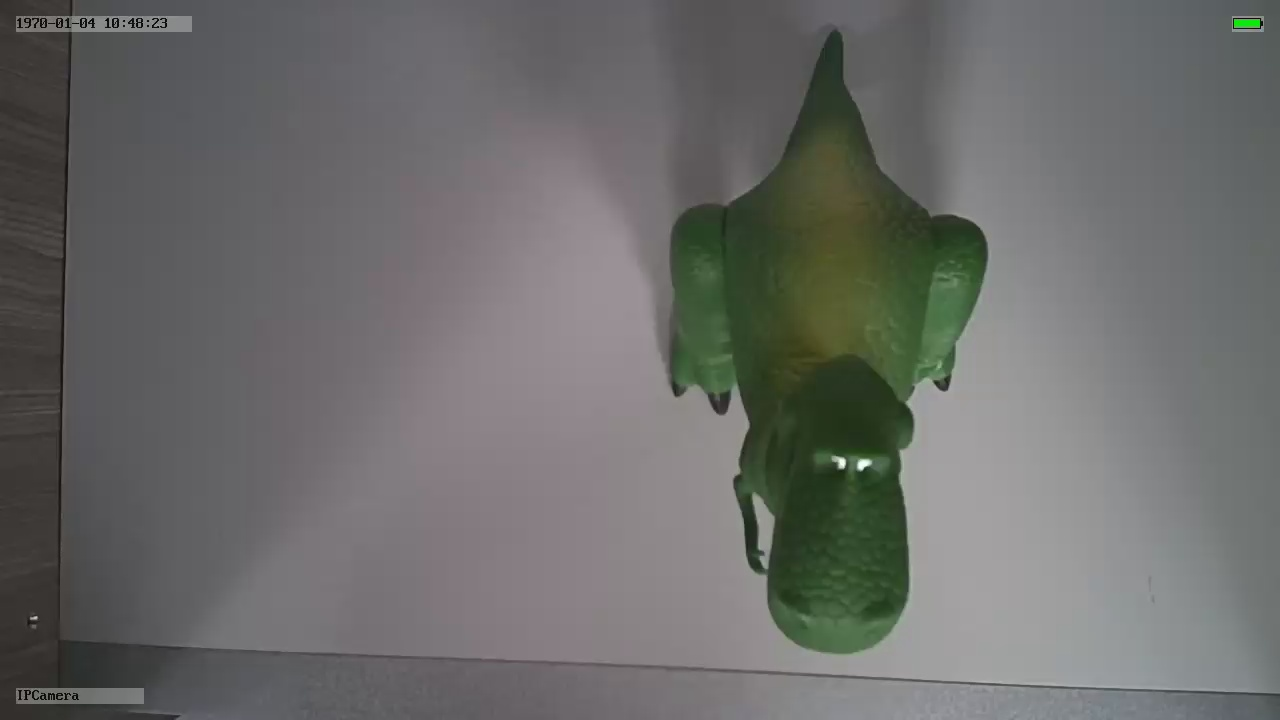rex: (670, 109, 991, 656)
